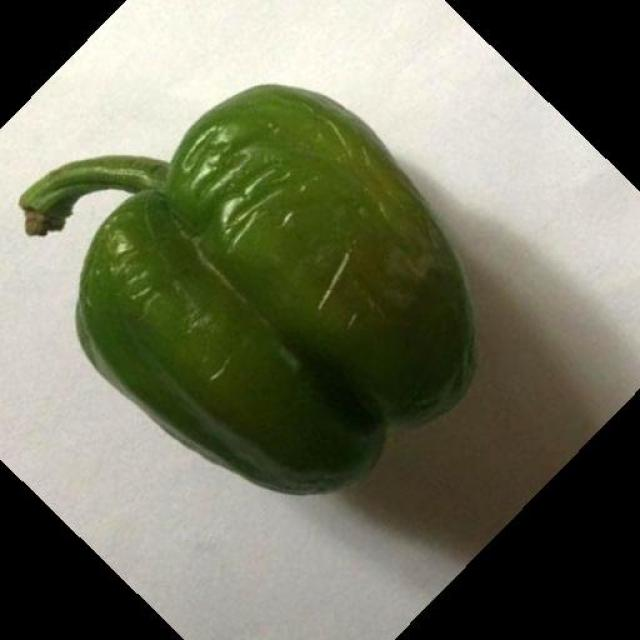Stale_Capsicum: (68, 134, 486, 480)
